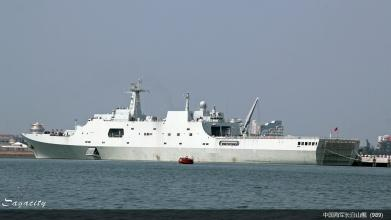warship: (20, 80, 363, 166)
